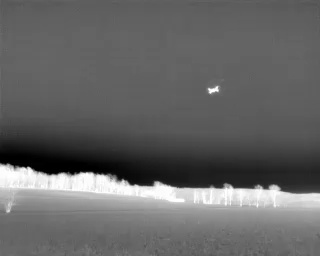DRONE: (203, 81, 224, 99)
